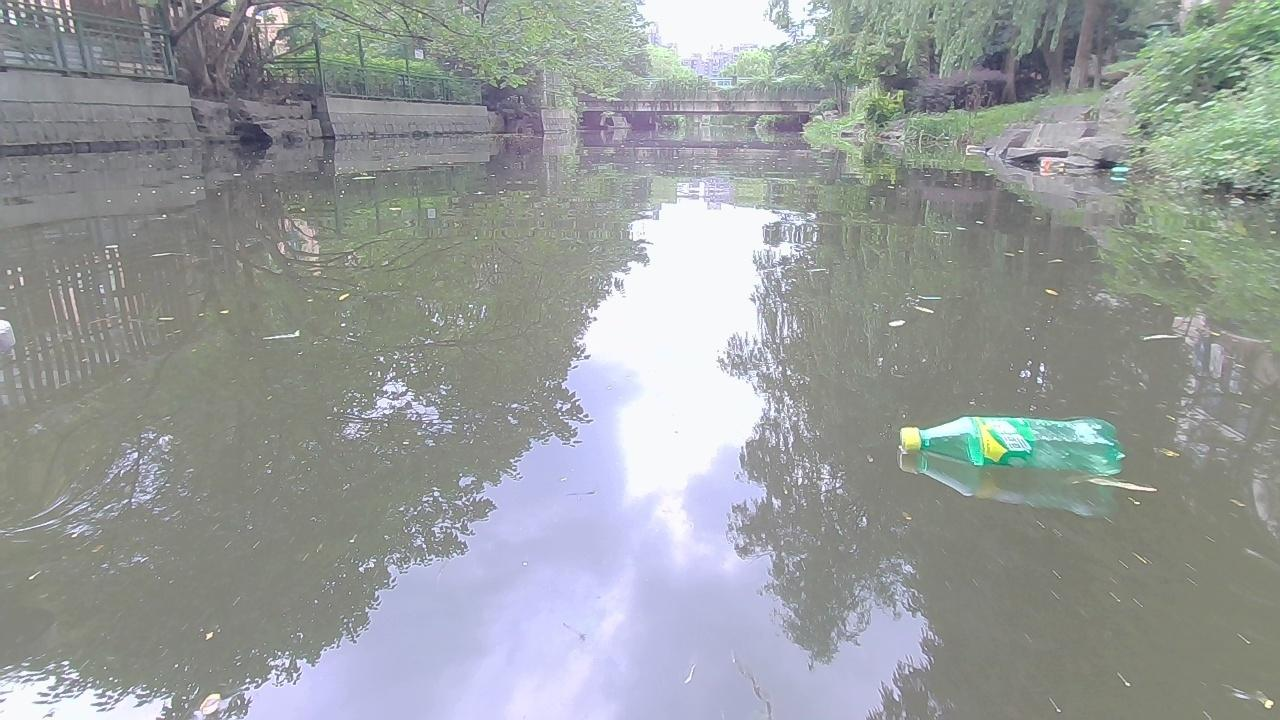bottle: (893, 405, 1123, 481), (1110, 165, 1139, 177), (1035, 159, 1066, 169)
